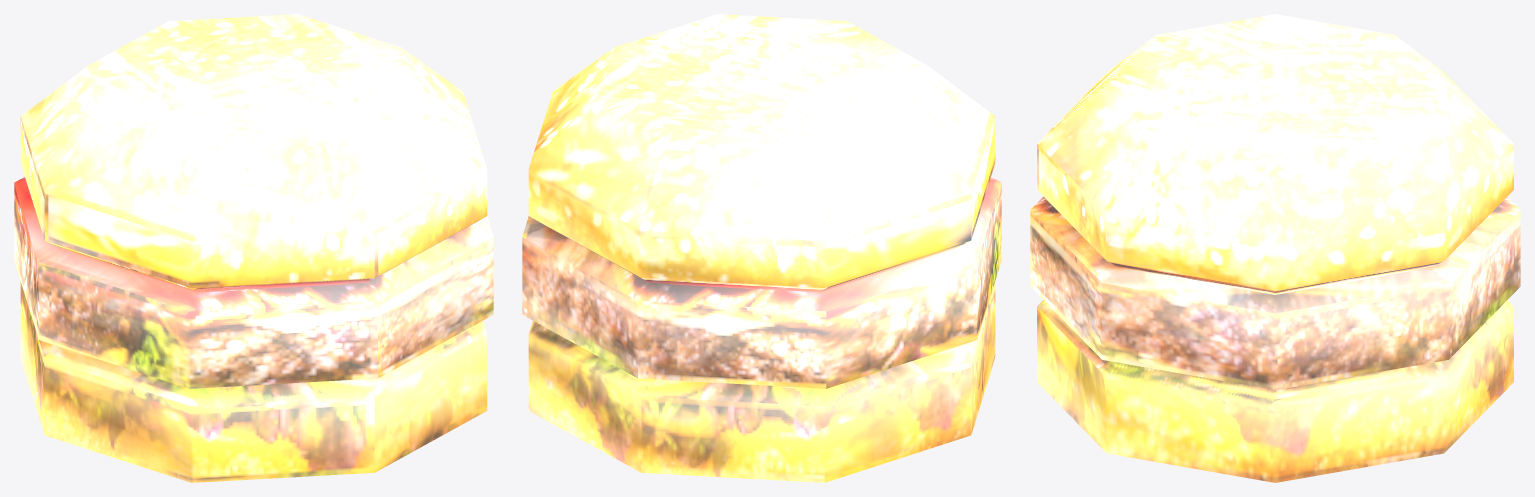
File: hamburger-pickup.glb
3 renders of one model, left to right at view 1: azimuth 30°, elevation 25°; view 2: azimuth 150°, elevation 25°; view 3: azimuth 270°, elevation 25°, orthographic.
Parts seen in each view (by area): view 1: hamburger-pickup; view 2: hamburger-pickup; view 3: hamburger-pickup.
Boxes of the visible parts, <box> form: hamburger-pickup: <box>14,14,493,482</box>; hamburger-pickup: <box>522,14,1001,482</box>; hamburger-pickup: <box>1030,14,1520,482</box>.
Bounding box in the file's own units: 2.06 × 1.42 × 2.06.
